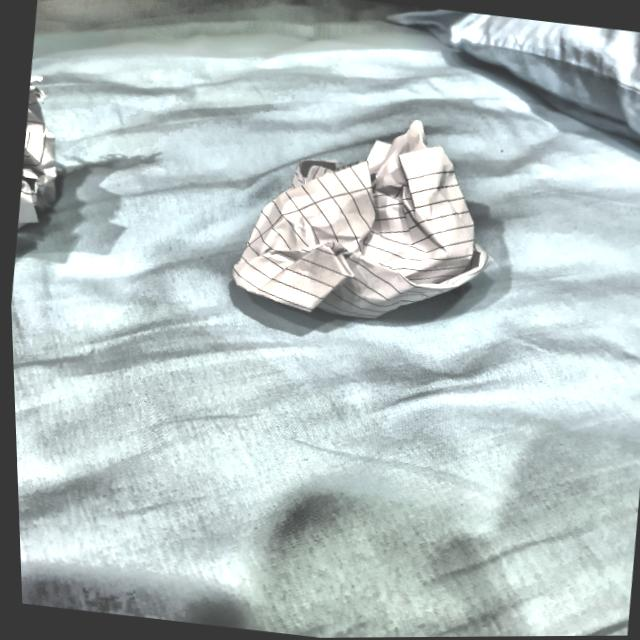Paper: (221, 101, 500, 338)
